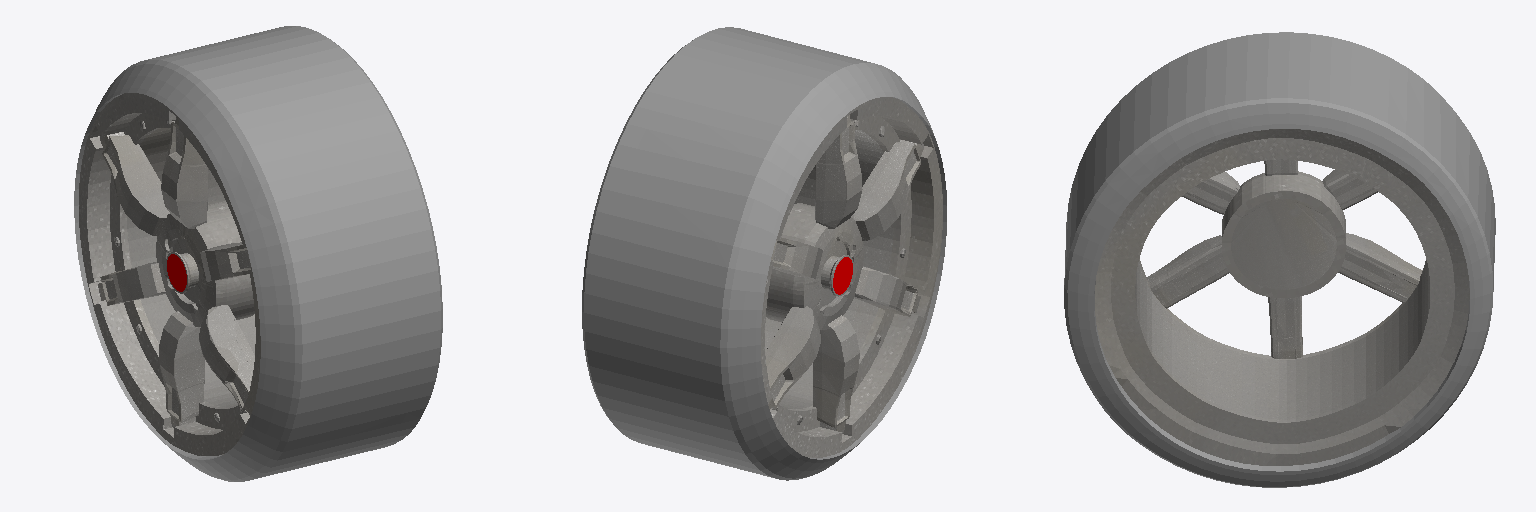
3 renders of one model, left to right at view 1: azimuth 30°, elevation 25°; view 2: azimuth 150°, elevation 25°; view 3: azimuth 270°, elevation 25°, orthographic.
Parts seen in each view (by area): view 1: Wheel.003_Circle.000; view 2: Wheel.003_Circle.000; view 3: Wheel.003_Circle.000.
Part boxes in pixels (left/top/right/bottom): Wheel.003_Circle.000: left=74, top=26, right=442, bottom=481; Wheel.003_Circle.000: left=582, top=27, right=946, bottom=480; Wheel.003_Circle.000: left=1064, top=32, right=1495, bottom=487.
Bounding box in the file's own units: 0.4474 × 0.9557 × 0.956.
3 materials, 1 textured.